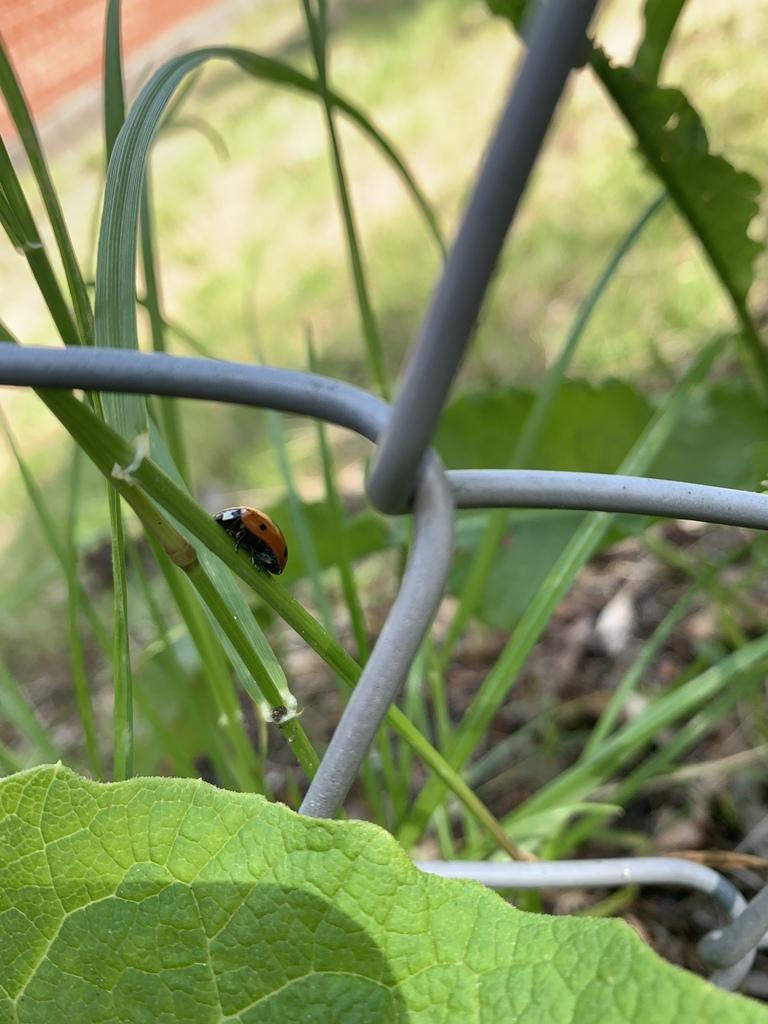ladybug: (214, 504, 294, 581)
